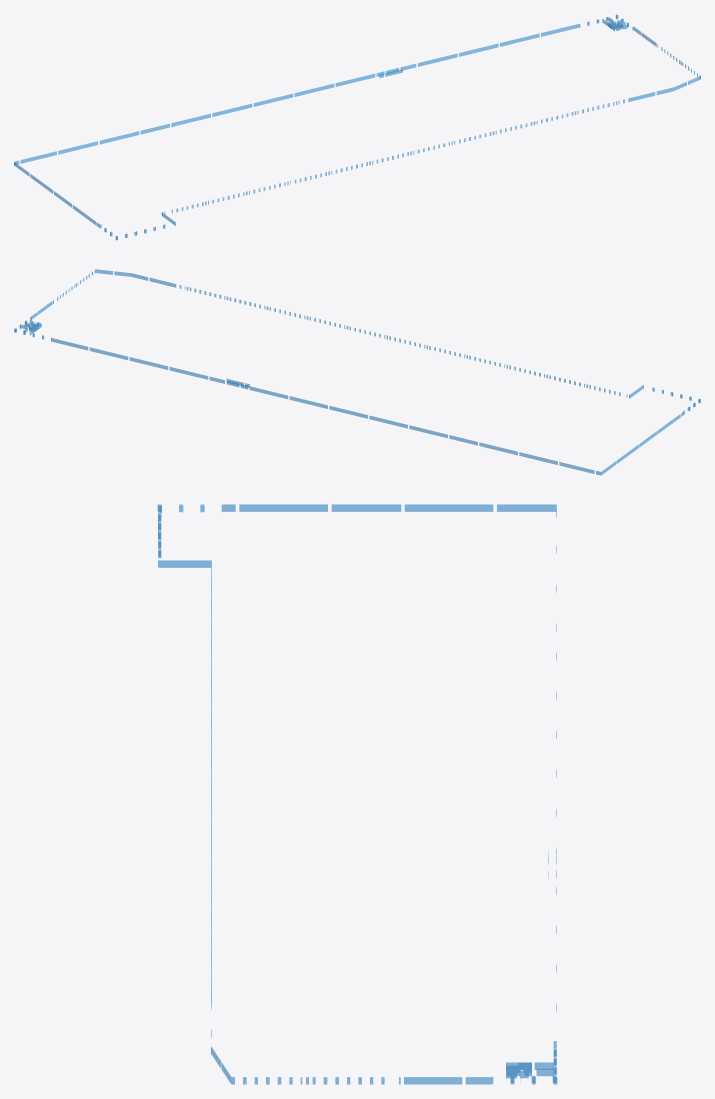
Rendered from SM_GHS_JoinedWallFaces.fbx.
The picture shows the model from 3 angles, top to bottom: view 1: azimuth 30°, elevation 25°; view 2: azimuth 150°, elevation 25°; view 3: azimuth 270°, elevation 25°; orthographic projection. The views are drawn at different scales.
Parts seen in each view (by area): view 1: SM_GHS_JoinedWallFaces.001; view 2: SM_GHS_JoinedWallFaces.001; view 3: SM_GHS_JoinedWallFaces.001.
Boxes of the visible parts, bbox=[...] form: SM_GHS_JoinedWallFaces.001: bbox=[14, 14, 700, 240]; SM_GHS_JoinedWallFaces.001: bbox=[14, 269, 700, 475]; SM_GHS_JoinedWallFaces.001: bbox=[157, 504, 557, 1084].
Bounding box in the file's own units: 46584 × 13727 × 280.
